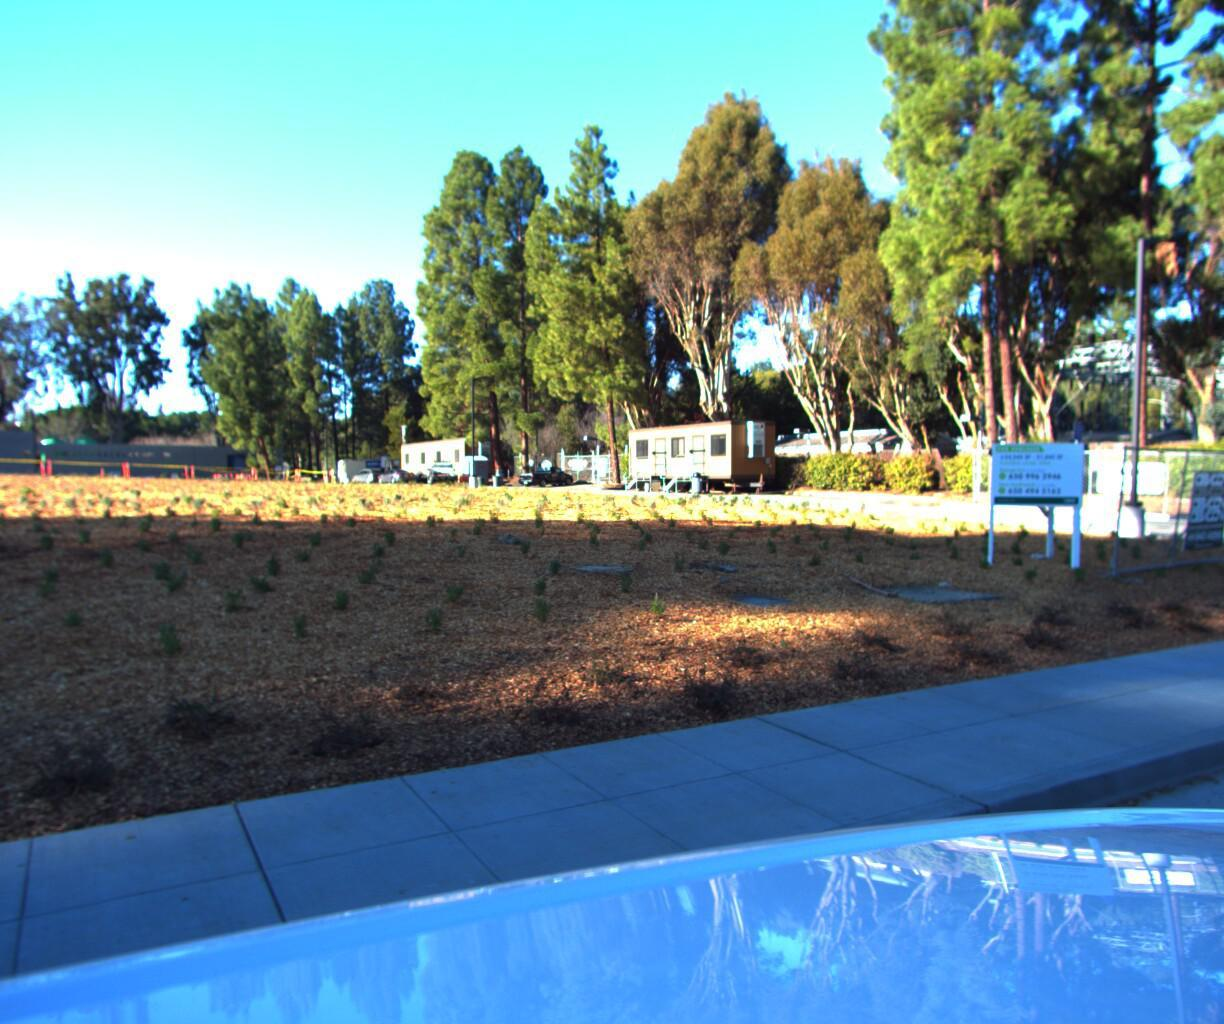car: (509, 467, 572, 491)
